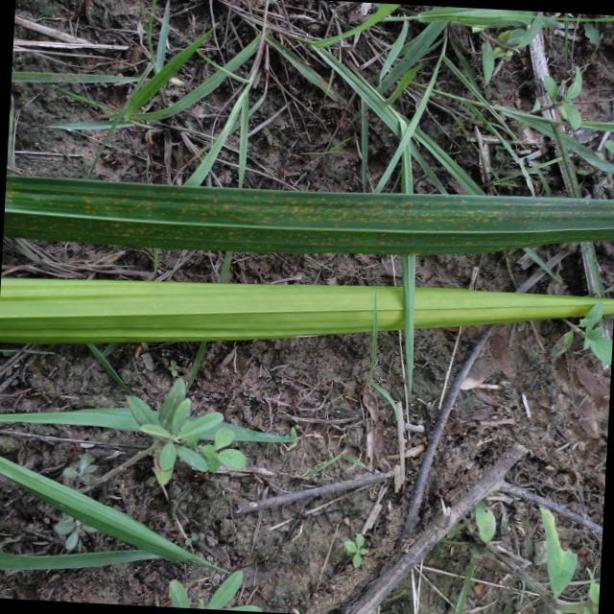nitrogen: (6, 171, 614, 258), (0, 273, 614, 347)
